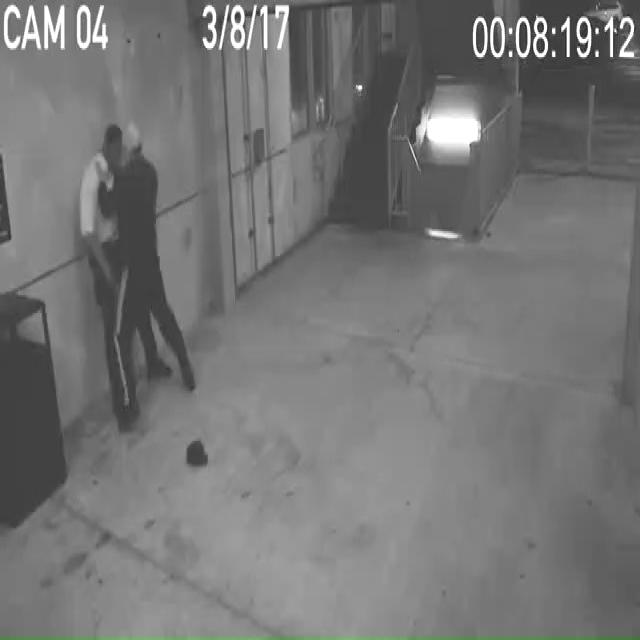fight: (52, 101, 214, 428)
